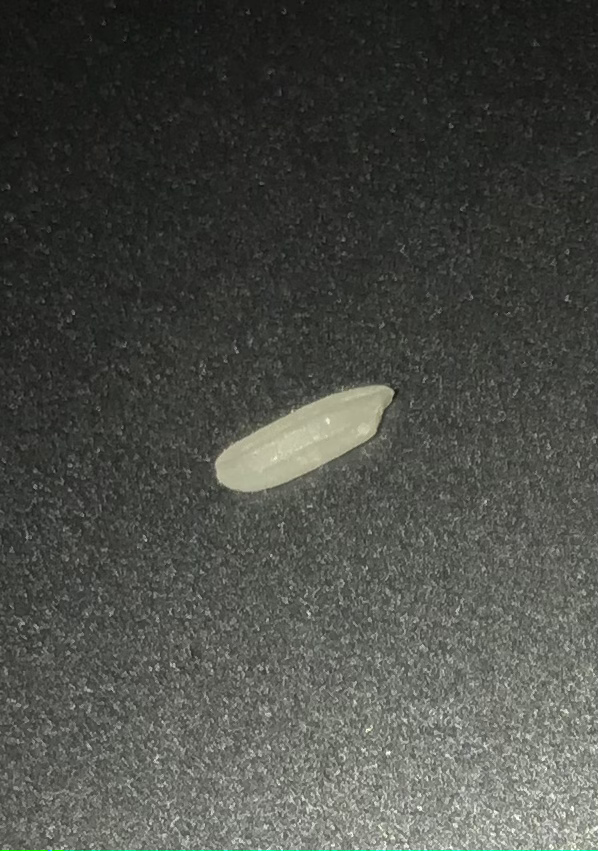Gao Tam Thom: (215, 394, 419, 499)
